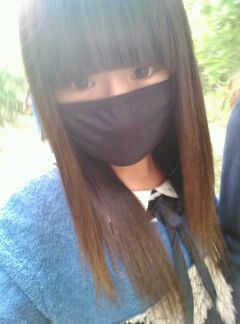face_mask: (59, 60, 165, 165)
